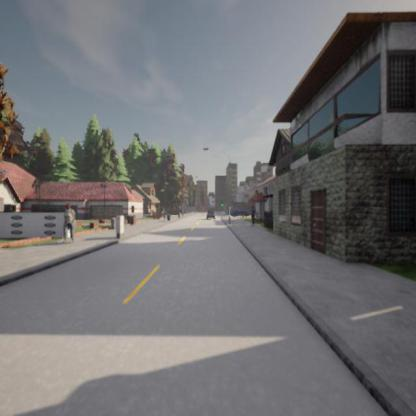person: (64, 201, 77, 244)
